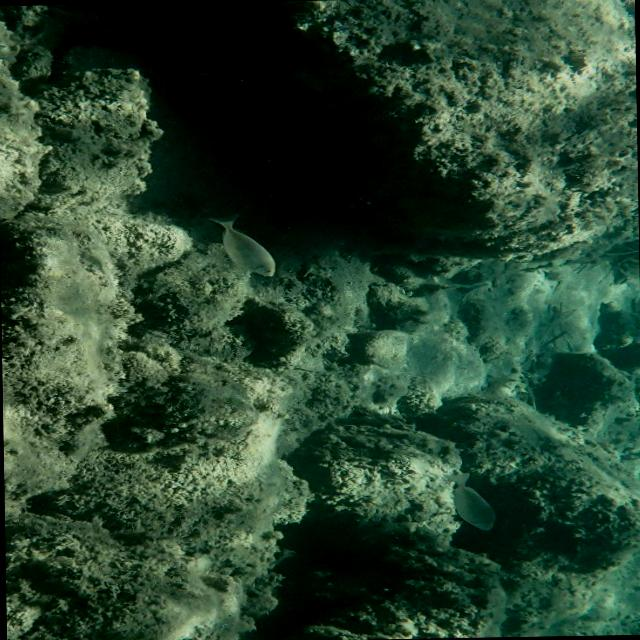Sokar Baligi: (186, 205, 292, 285), (426, 465, 508, 535)
